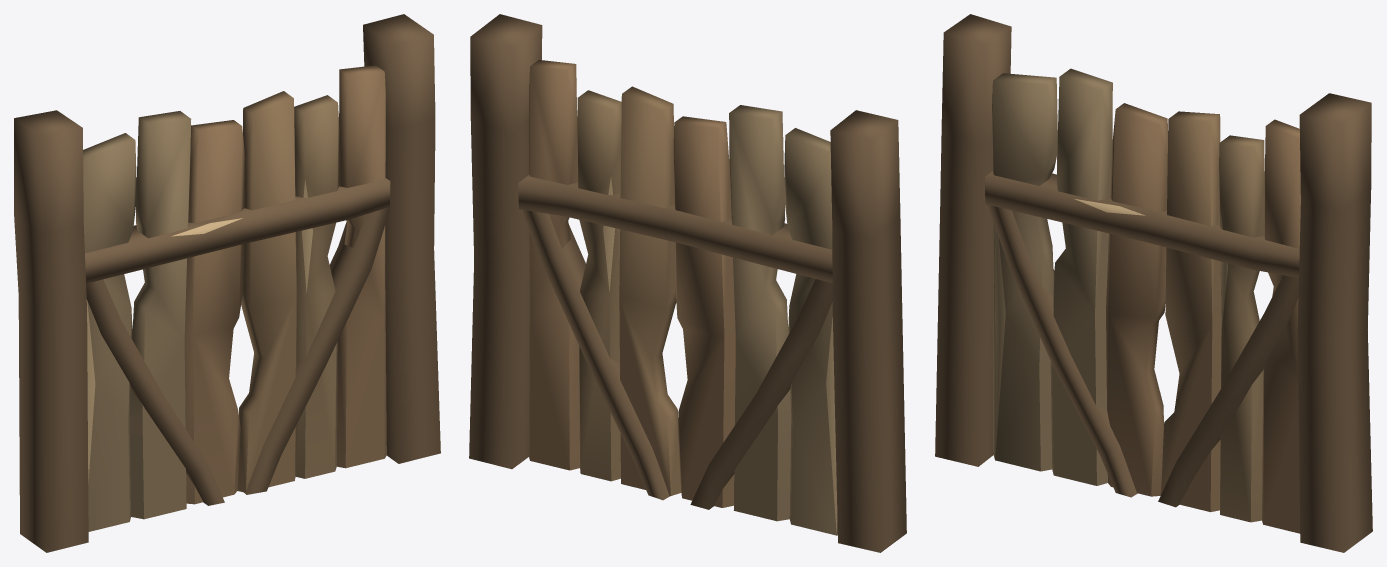
The model's file is rpgpp_av_fence_03a_2m.gltf.
3 views of the same model, side by side, from view 1: azimuth 30°, elevation 25°; view 2: azimuth 150°, elevation 25°; view 3: azimuth 330°, elevation 25° (orthographic).
Visible parts, largest first — view 1: rpgpp_av_fence_03a_2m; view 2: rpgpp_av_fence_03a_2m; view 3: rpgpp_av_fence_03a_2m.
Part boxes in pixels (left/top/right/bottom): rpgpp_av_fence_03a_2m: left=14, top=14, right=440, bottom=552; rpgpp_av_fence_03a_2m: left=469, top=14, right=906, bottom=552; rpgpp_av_fence_03a_2m: left=935, top=14, right=1372, bottom=552.
Bounding box in the file's own units: 0.0217 × 0.0217 × 0.00334.
1 material, 1 textured.
